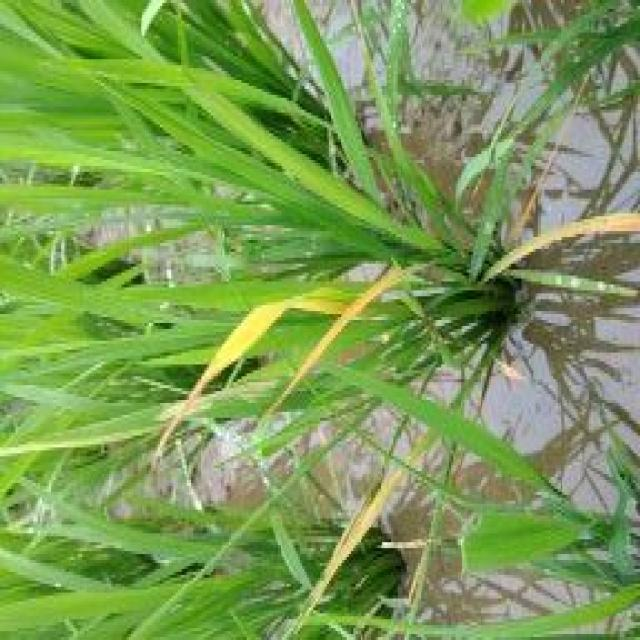Tungro: (307, 452, 409, 607), (186, 286, 305, 417), (501, 196, 640, 274), (308, 271, 406, 372)
